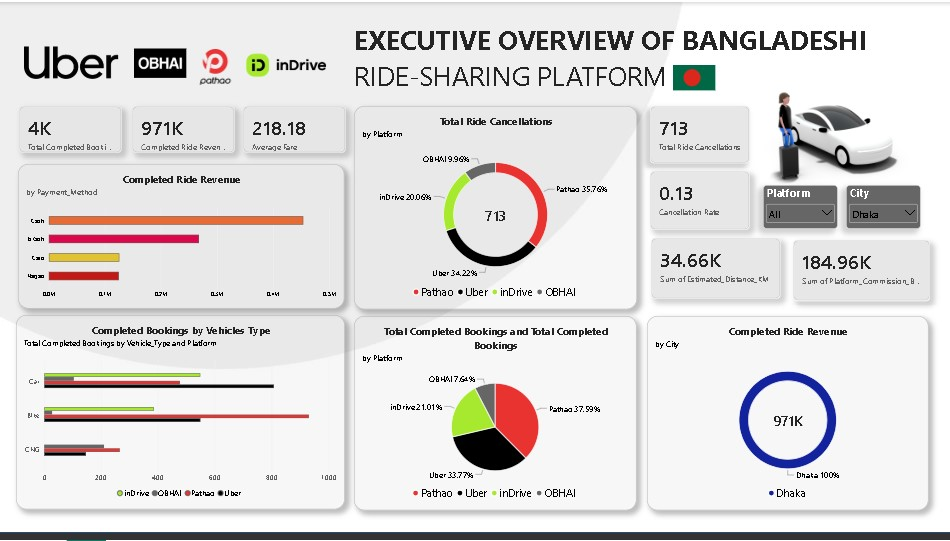

The dashboard page shown, as its layout file describes it:
{"tool":"powerbi","page":{"name":"Page 1","canvas":[1920,1080],"ordinal":0},"visuals":[{"type":"pieChart","fields":{"Category":["Rides.Platform","Calendar.Month_Name"],"Y":["KPI_Guide.Completed Bookings","KPI_Guide.Completed Bookings"]},"box":[717.5,630,566.7,390],"z":0},{"type":"donutChart","fields":{"Category":["City_Dim.City"],"Y":["KPI_Guide.Completed Ride Revenue"]},"box":[1305,630,565,390],"z":1000},{"type":"shape","box":[0,1063.3,1920,18],"z":2000},{"type":"clusteredBarChart","title":"Completed Bookings by Vehicles Type","fields":{"Category":["Rides.Vehicle_Type"],"Series":["Rides.Platform"],"Y":["KPI_Guide.Completed Bookings"]},"box":[37.5,627.5,660,390],"z":3000},{"type":"image","box":[1520,104,335,307.5],"z":4000},{"type":"image","box":[55,83.1,188.5,78.8],"z":5000},{"type":"cardVisual","fields":{"Data":["KPI_Guide.Completed Bookings"]},"box":[43.3,208.3,206.1,94.5],"z":6000,"group":"g1"},{"type":"barChart","fields":{"Category":["Rides.Payment_Method"],"Y":["KPI_Guide.Completed Ride Revenue"]},"box":[42.5,325,655,290],"z":6000},{"type":"image","box":[327.5,90,222.5,80],"z":7000},{"type":"cardVisual","fields":{"Data":["KPI_Guide.Completed Ride Revenue"]},"box":[269.8,208.3,206.1,94.5],"z":7000,"group":"g1"},{"type":"cardVisual","fields":{"Data":["KPI_Guide.Total Ride Cancellations"]},"box":[1311.7,208.3,200,115],"z":8000},{"type":"image","box":[455,70,250,112.5],"z":9000},{"type":"cardVisual","fields":{"Data":["KPI_Guide.Average Fare"]},"box":[492.2,208.8,206.1,94.5],"z":9000,"group":"g1"},{"type":"cardVisual","fields":{"Data":["Calendar.Cancellation Rate"]},"box":[1311.7,338.3,200,118.3],"z":10000},{"type":"cardVisual","fields":{"Data":["Sum(Rides.Estimated_Distance_KM)"]},"box":[1312,474,260,122],"z":11000},{"type":"image","box":[275,90,105,65],"z":12000},{"type":"cardVisual","fields":{"Data":["Sum(Rides.Platform_Commission_BDT)"]},"box":[1597,477.1,275,122.9],"z":13000},{"type":"donutChart","fields":{"Category":["Rides.Platform"],"Y":["KPI_Guide.Total Ride Cancellations"]},"box":[716.7,208.3,568.3,408.3],"z":14000},{"type":"textbox","box":[716.7,40,1156.7,146.7],"z":15000},{"type":"group","id":"g1","title":"Group 2","box":[43.3,208.3,655,95],"z":16000},{"type":"image","box":[1356.4,117.7,84.6,66.1],"z":17000},{"type":"slicer","fields":{"Values":["Rides.Platform"]},"box":[1537.5,367.5,150,87.5],"z":18000},{"type":"slicer","fields":{"Values":["City_Dim.City"]},"box":[1705,367.5,150,87.5],"z":19000}]}

Visuals, with their boxes in screenshot pixels (x1, y1, x2, y2), scaled from the page's 1920x1080 canvas onto the 950x541 screenshot:
pieChart - Rides.Platform x Calendar.Month_Name: x1=355 y1=316 x2=635 y2=511
donutChart - City_Dim.City x KPI_Guide.Completed Ride Revenue: x1=646 y1=316 x2=925 y2=511
shape: x1=0 y1=533 x2=949 y2=540
"Completed Bookings by Vehicles Type" clusteredBarChart: x1=19 y1=314 x2=345 y2=510
image: x1=752 y1=52 x2=918 y2=206
image: x1=27 y1=42 x2=120 y2=81
cardVisual - KPI_Guide.Completed Bookings: x1=21 y1=104 x2=123 y2=152
barChart - Rides.Payment_Method x KPI_Guide.Completed Ride Revenue: x1=21 y1=163 x2=345 y2=308
image: x1=162 y1=45 x2=272 y2=85
cardVisual - KPI_Guide.Completed Ride Revenue: x1=133 y1=104 x2=235 y2=152
cardVisual - KPI_Guide.Total Ride Cancellations: x1=649 y1=104 x2=748 y2=162
image: x1=225 y1=35 x2=349 y2=91
cardVisual - KPI_Guide.Average Fare: x1=244 y1=105 x2=346 y2=152
cardVisual - Calendar.Cancellation Rate: x1=649 y1=169 x2=748 y2=229
cardVisual - Sum(Rides.Estimated_Distance_KM): x1=649 y1=237 x2=778 y2=299
image: x1=136 y1=45 x2=188 y2=78
cardVisual - Sum(Rides.Platform_Commission_BDT): x1=790 y1=239 x2=926 y2=301
donutChart - Rides.Platform x KPI_Guide.Total Ride Cancellations: x1=355 y1=104 x2=636 y2=309
textbox: x1=355 y1=20 x2=927 y2=94
"Group 2" group: x1=21 y1=104 x2=346 y2=152
image: x1=671 y1=59 x2=713 y2=92
slicer - Rides.Platform: x1=761 y1=184 x2=835 y2=228
slicer - City_Dim.City: x1=844 y1=184 x2=918 y2=228
